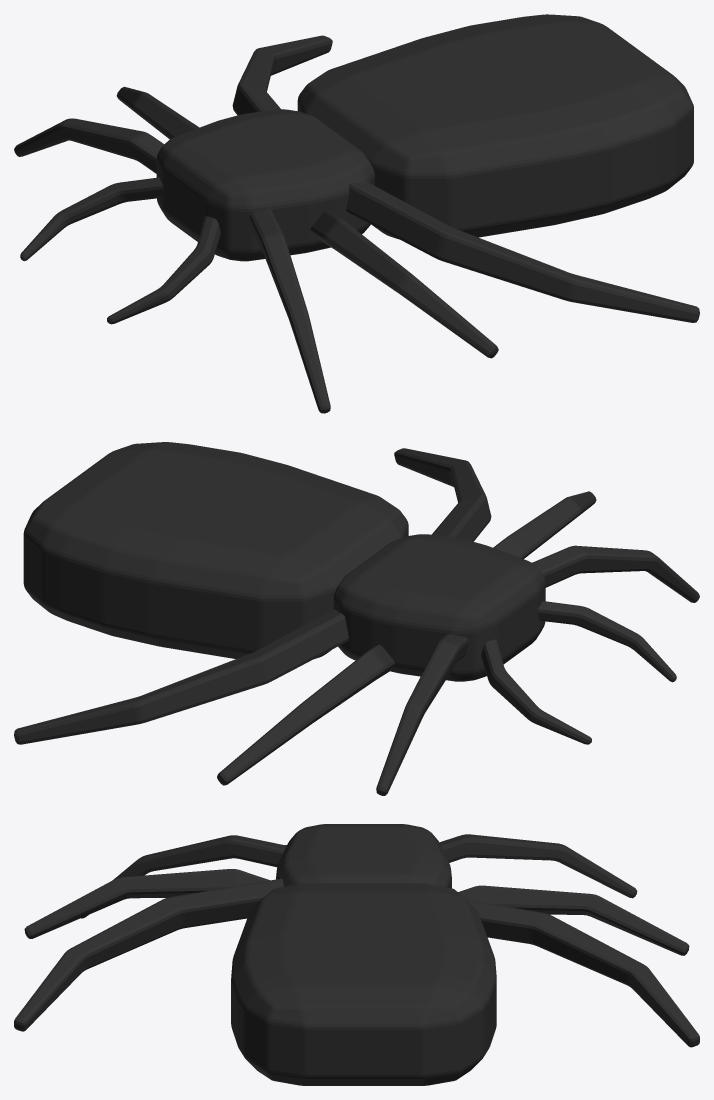
The model's file is Spider.fbx.
3 renders of one model, top to bottom at view 1: azimuth 30°, elevation 25°; view 2: azimuth 150°, elevation 25°; view 3: azimuth 270°, elevation 25°, orthographic. The views are drawn at different scales.
Visible parts, largest first — view 1: Cube.007, Cube.012, Cube.013, Cube.014, Cube.010, Cube.008, Cube.015, Cube.011, Cube.009; view 2: Cube.007, Cube.008, Cube.009, Cube.012, Cube.014, Cube.010, Cube.011, Cube.013, Cube.015; view 3: Cube.007, Cube.012, Cube.008, Cube.013, Cube.009, Cube.010, Cube.014.
Part boxes in pixels (box(x1,y1,x2,y2)): Cube.007: box(156, 14, 693, 261); Cube.012: box(346, 182, 699, 322); Cube.013: box(310, 210, 498, 358); Cube.014: box(249, 208, 330, 413); Cube.010: box(14, 118, 164, 173); Cube.008: box(232, 35, 332, 115); Cube.015: box(20, 177, 163, 261); Cube.011: box(107, 216, 220, 324); Cube.009: box(116, 86, 199, 139); Cube.007: box(23, 442, 545, 681); Cube.008: box(14, 609, 348, 744); Cube.009: box(217, 644, 394, 785); Cube.012: box(394, 448, 491, 541); Cube.014: box(532, 545, 699, 602); Cube.010: box(376, 634, 468, 795); Cube.011: box(537, 601, 676, 682); Cube.013: box(493, 491, 596, 559); Cube.015: box(481, 639, 591, 744); Cube.007: box(231, 824, 496, 1085); Cube.012: box(14, 878, 283, 1031); Cube.008: box(467, 900, 699, 1047); Cube.013: box(24, 869, 269, 938); Cube.009: box(458, 885, 689, 955); Cube.010: box(439, 834, 637, 898); Cube.014: box(81, 835, 286, 918).
Bounding box in the file's own units: 625 × 141 × 717.
